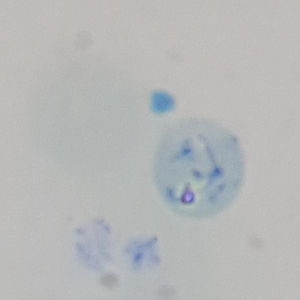aggregate reticulocyte: (151, 116, 248, 222)
